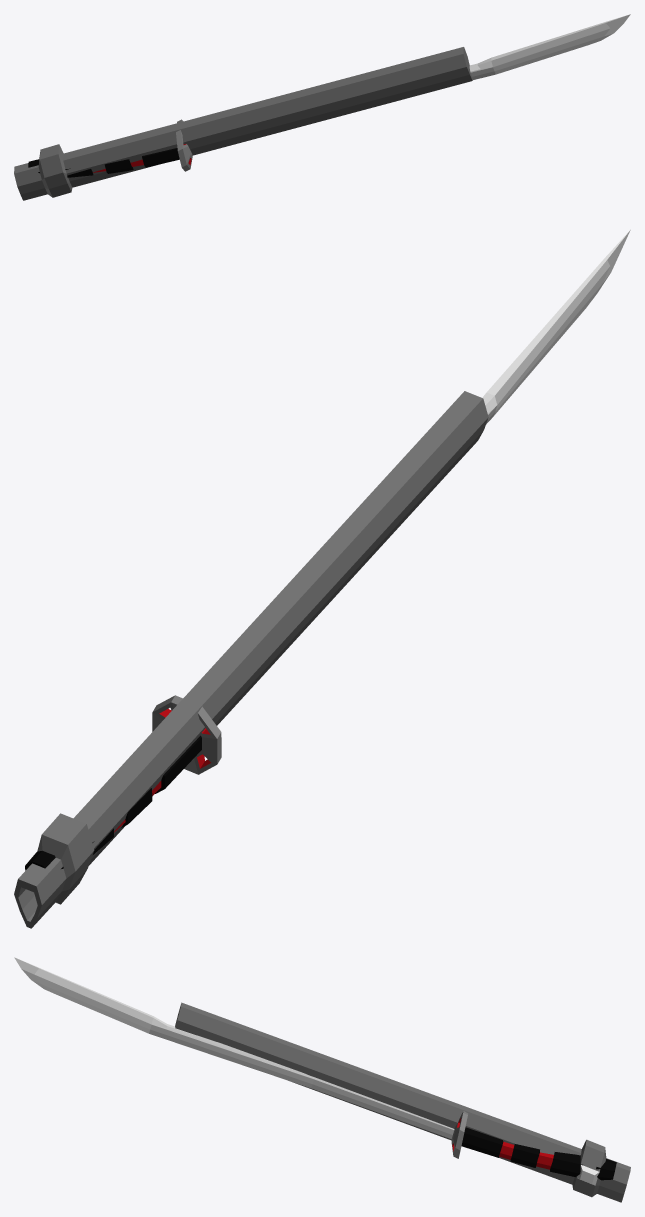
File: katana_cover.fbx
3 renders of one model, top to bottom at view 1: azimuth 90°, elevation 25°; view 2: azimuth 150°, elevation 25°; view 3: azimuth 270°, elevation 25°, orthographic. The views are drawn at different scales.
Visible parts, largest first — view 1: katana cover, katana; view 2: katana cover, katana; view 3: katana cover, katana.
Part boxes in pixels (x1,y1,x2,y2): katana cover: (14, 47, 472, 200); katana: (28, 14, 630, 177); katana cover: (14, 391, 488, 928); katana: (25, 229, 630, 870); katana cover: (175, 1002, 630, 1202); katana: (14, 957, 616, 1180).
Bounding box in the file's own units: 13.23 × 38.84 × 101.
